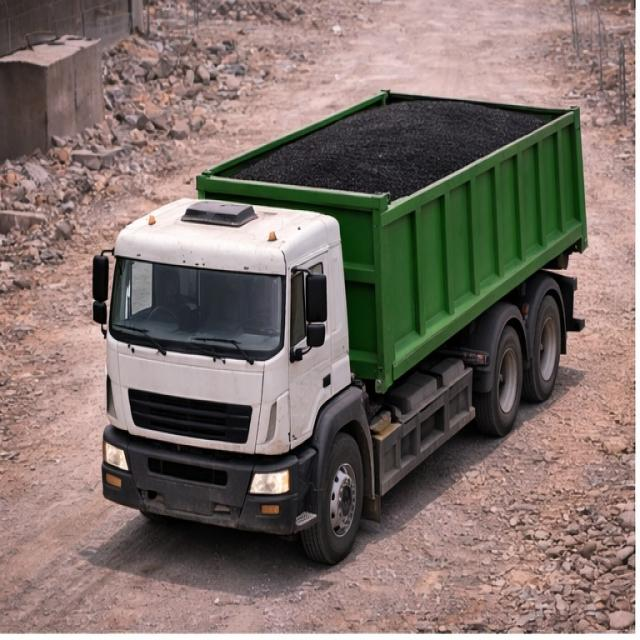trailer: (200, 89, 582, 204)
truck: (60, 86, 587, 554)
